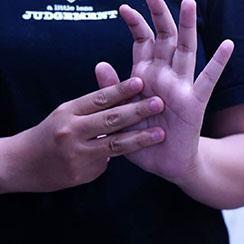M: (26, 0, 237, 244)
